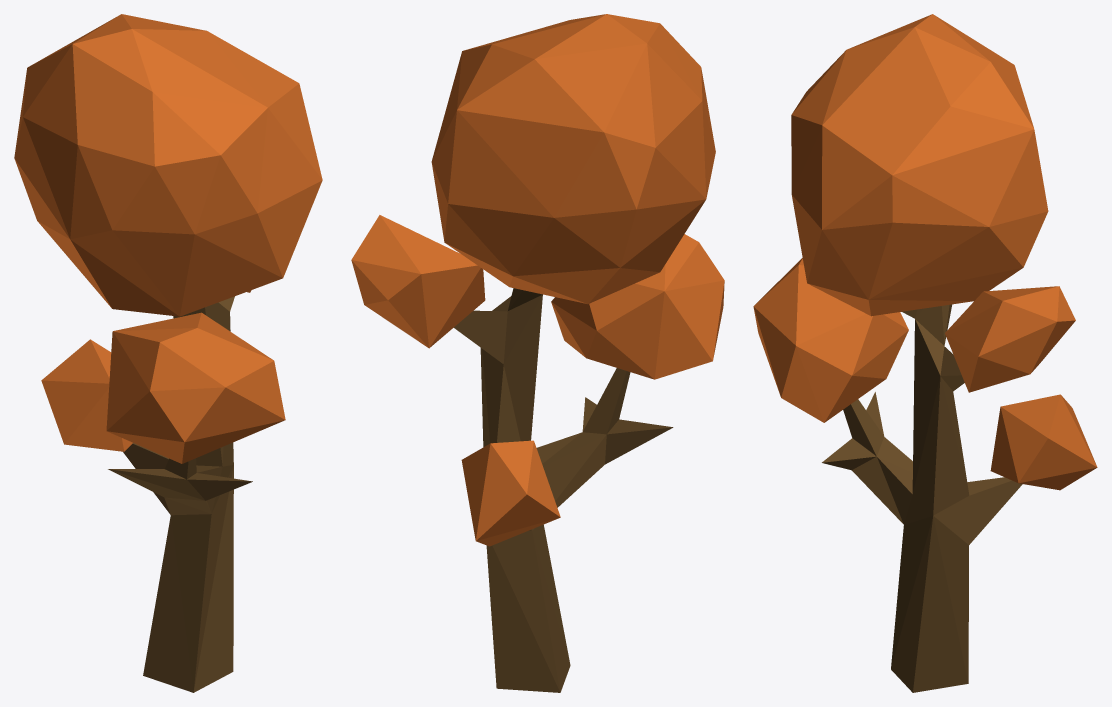
File: temp-decid.moderate.orange-op0.4.gltf
3 renders of one model, left to right at view 1: azimuth 30°, elevation 25°; view 2: azimuth 150°, elevation 25°; view 3: azimuth 270°, elevation 25°, orthographic. The views are drawn at different scales.
Parts seen in each view (by area): view 1: Tree1_2; view 2: Tree1_2; view 3: Tree1_2.
Boxes of the visible parts, x1,y1,x2,y2 form: Tree1_2: (14, 14, 322, 692); Tree1_2: (351, 14, 724, 692); Tree1_2: (753, 14, 1097, 692).
Size of the model in its own units: 2.58 by 5.94 by 2.99.
Materials: 1 (1 with a texture image).
